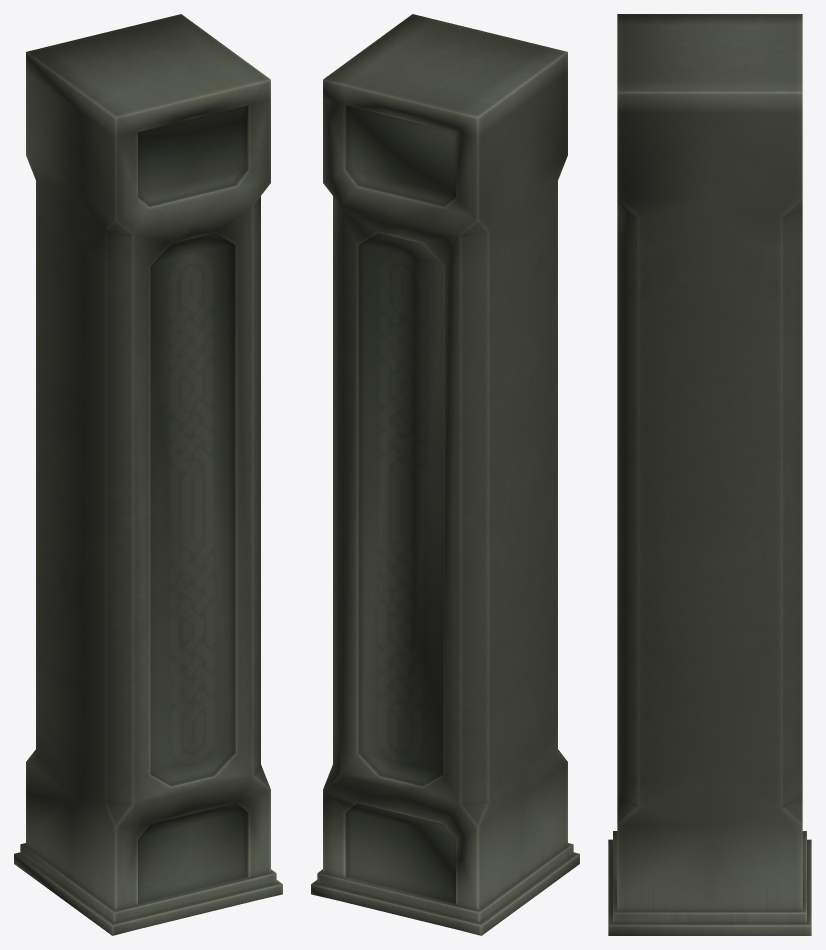
The model's file is pillar1_lod.fbx.
3 renders of one model, left to right at view 1: azimuth 30°, elevation 25°; view 2: azimuth 150°, elevation 25°; view 3: azimuth 270°, elevation 25°, orthographic. The views are drawn at different scales.
Visible parts, largest first — view 1: Pillar1_LOD0; view 2: Pillar1_LOD0; view 3: Pillar1_LOD0.
Boxes of the visible parts, x1,y1,x2,y2 form: Pillar1_LOD0: [14, 14, 282, 935]; Pillar1_LOD0: [311, 14, 579, 935]; Pillar1_LOD0: [608, 14, 811, 935].
Size of the model in its own units: 438 by 2000 by 438.
